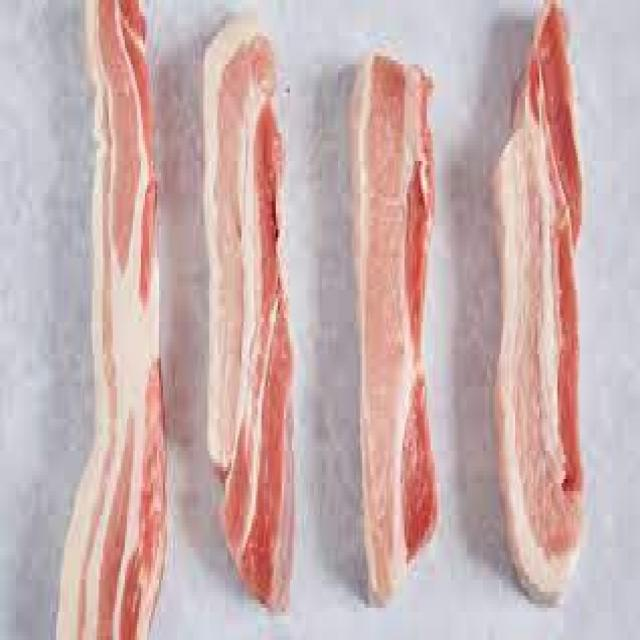pork: (56, 0, 167, 638), (203, 24, 296, 610), (497, 4, 584, 600), (350, 52, 439, 602)
